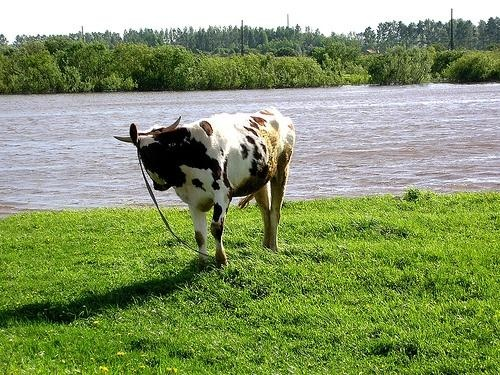cow: (114, 107, 296, 266)
